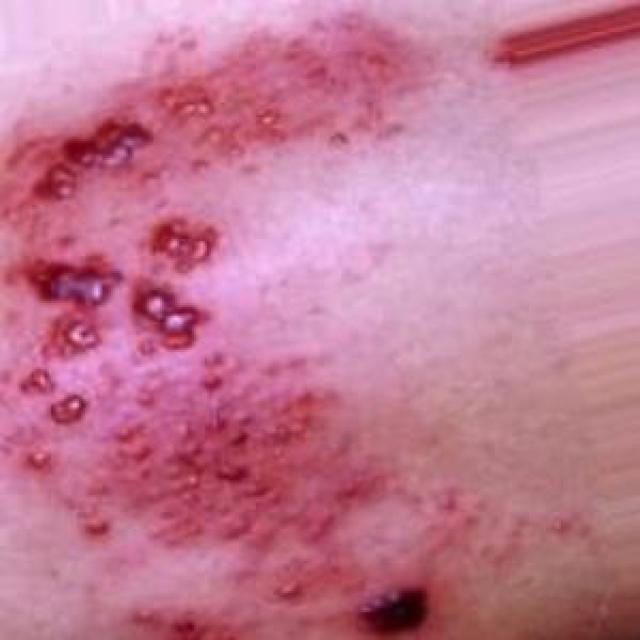Shingles: (5, 217, 376, 602), (0, 19, 421, 235)
